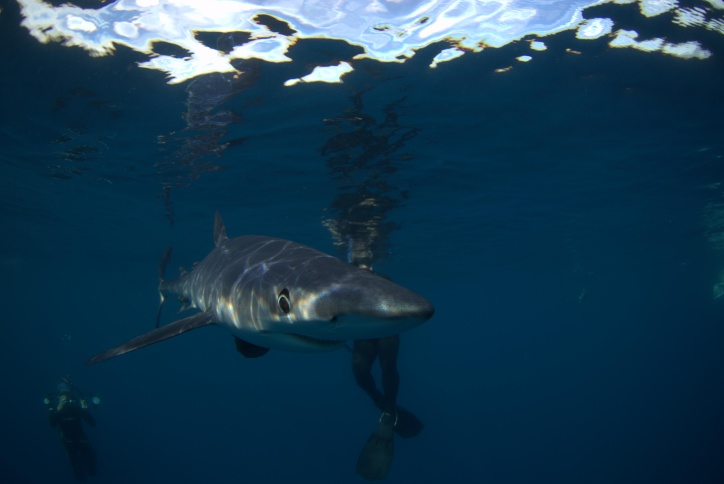Azul: (69, 185, 472, 382)
